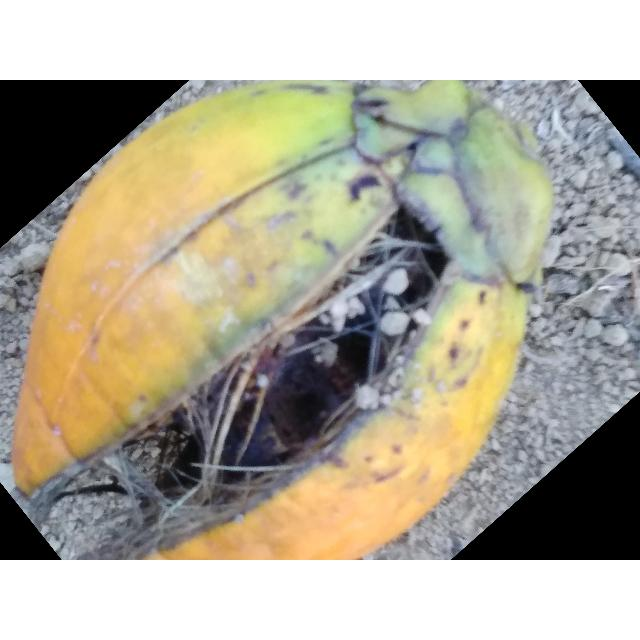damaged: (12, 80, 553, 560)
